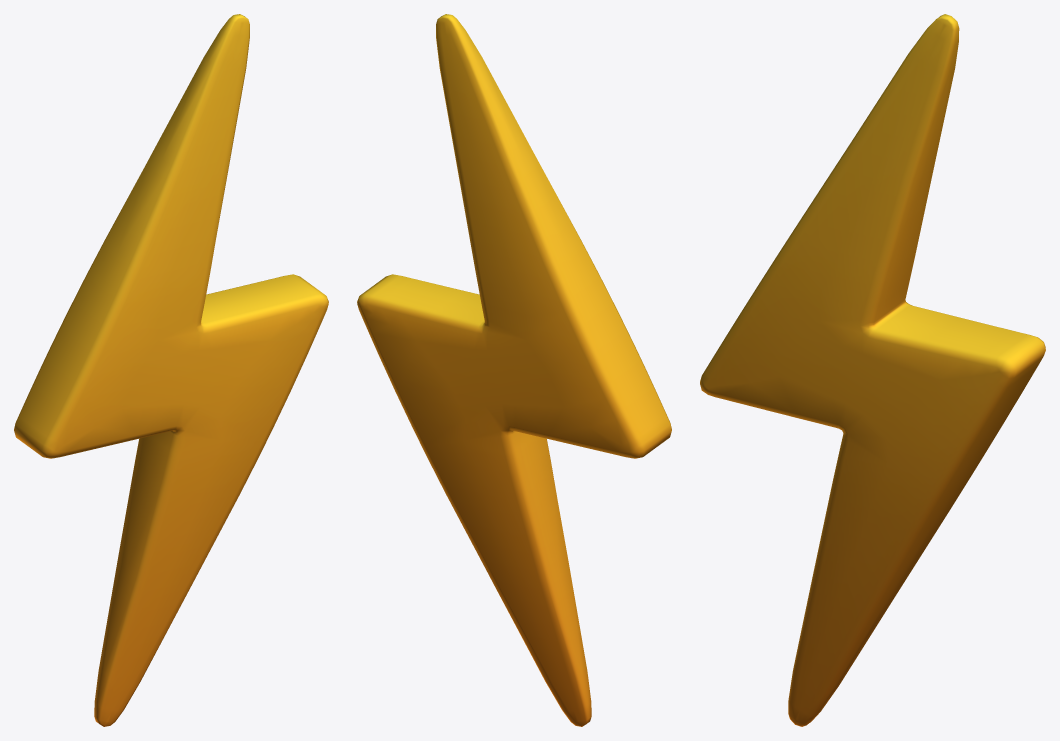
Rendered from LightningSymbol.obj.
3 renders of one model, left to right at view 1: azimuth 30°, elevation 25°; view 2: azimuth 150°, elevation 25°; view 3: azimuth 330°, elevation 25°, orthographic. The views are drawn at different scales.
Parts seen in each view (by area): view 1: LightningSymbol; view 2: LightningSymbol; view 3: LightningSymbol.
Part boxes in pixels (left/top/right/bottom): LightningSymbol: left=14, top=14, right=328, bottom=726; LightningSymbol: left=357, top=14, right=671, bottom=726; LightningSymbol: left=700, top=14, right=1045, bottom=726.
Size of the model in its own units: 45.55 by 102 by 10.24.
